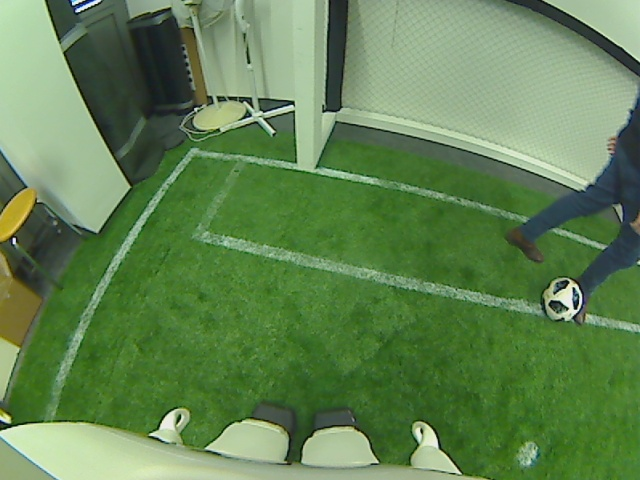ball: (539, 274, 586, 324)
